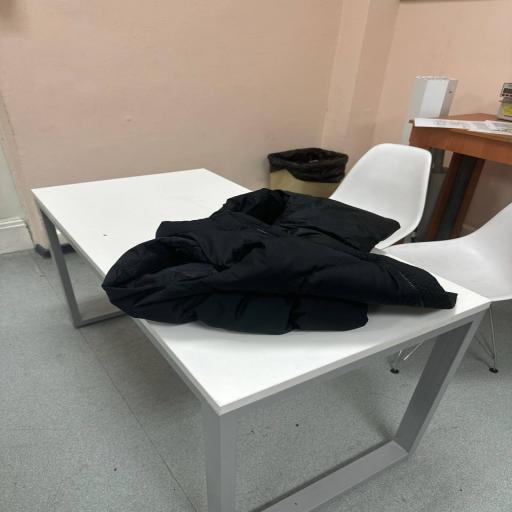bus: (384, 204, 511, 302), (331, 144, 431, 249)
stroller: (138, 278, 488, 511), (409, 125, 511, 241)
traffic_light: (268, 148, 348, 197)
